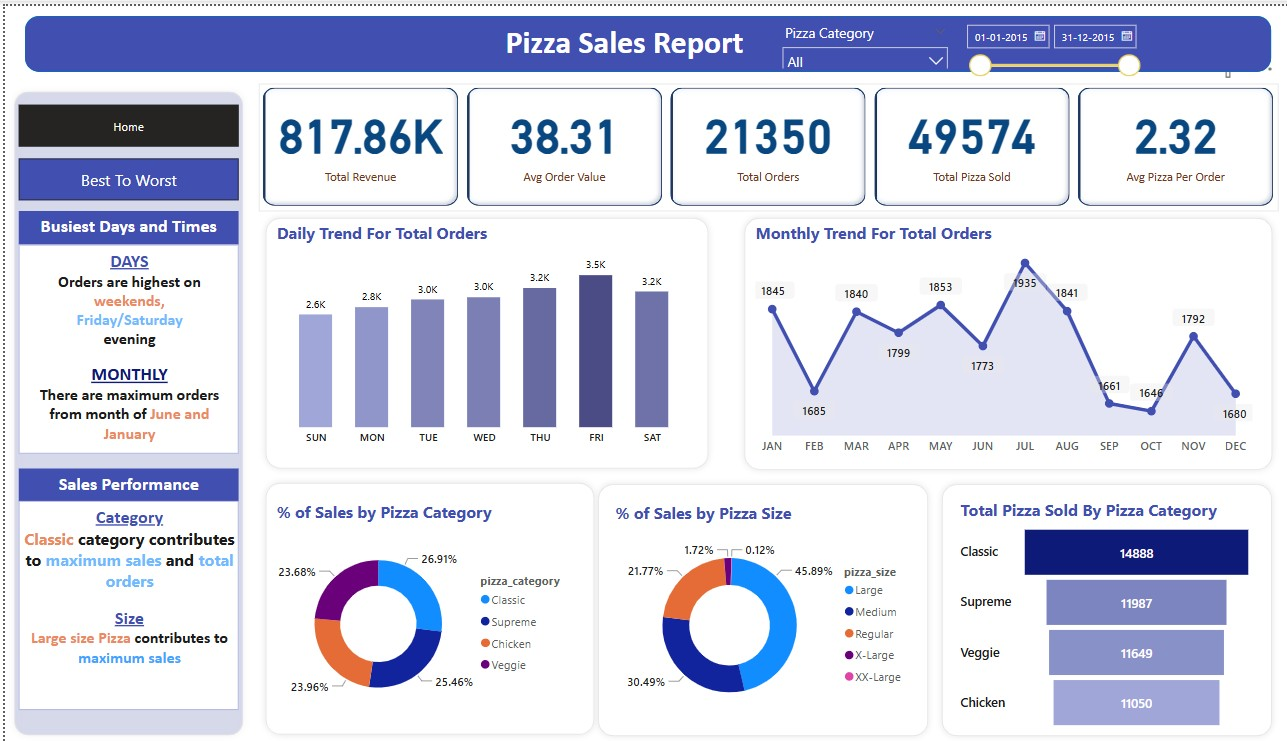

The dashboard page shown, as its layout file describes it:
{"tool":"powerbi","page":{"name":"Home","canvas":[1500,860],"ordinal":0},"visuals":[{"type":"shape","box":[2.9,92,283.3,768],"z":0},{"type":"cardVisual","fields":{"Data":["public final_table.Total Revenue","public final_table.Avg Order Value","public final_table.Total Orders","public final_table.Total Pizza Sold","public final_table.Avg Pizza Per Order"]},"box":[296.8,91.2,1191.5,148.4],"z":1000},{"type":"shape","box":[23.1,12.3,1455.6,65.4],"z":2000},{"type":"textbox","box":[575,15.3,296.5,58.5],"z":3000},{"type":"shape","box":[296.8,239.7,533.8,309.1],"z":4000},{"type":"columnChart","title":"Daily Trend For Total Orders","fields":{"Category":["public final_table.order_day"],"Y":["public final_table.Total Orders"]},"box":[313.2,253.3,495.6,269.6],"z":5000},{"type":"shape","box":[855.1,239.7,633.2,310.5],"z":6000},{"type":"textbox","box":[16.1,239.5,257,39.4],"z":7000},{"type":"areaChart","title":"Monthly Trend For Total Orders","fields":{"Category":["public final_table.order_month"],"Y":["public final_table.Total Orders"]},"box":[871.5,253.3,591,280.5],"z":8000},{"type":"shape","box":[296.8,548.8,400.3,310.5],"z":9000},{"type":"shape","box":[684.9,550.1,401.7,310.5],"z":10000},{"type":"shape","box":[1086.6,550.1,401.7,310.5],"z":11000},{"type":"donutChart","title":"% of Sales by Pizza Category","fields":{"Category":["public final_table.pizza_category"],"Y":["public final_table.Total Revenue"]},"box":[313.2,578.7,356.8,262.8],"z":12000},{"type":"donutChart","title":"% of Sales by Pizza Size","fields":{"Y":["public final_table.Total Revenue"],"Category":["public final_table.pizza_size"]},"box":[708.1,580.1,356.8,262.8],"z":13000},{"type":"funnel","title":"Total Pizza Sold By Pizza Category","fields":{"Category":["public final_table.pizza_category"],"Y":["public final_table.Total Pizza Sold"]},"box":[1111.1,574.6,351.3,275.1],"z":14000},{"type":"textbox","box":[16.1,278.9,257,243.8],"z":15000},{"type":"textbox","box":[16.1,540.2,257,39.4],"z":16000},{"type":"textbox","box":[16.1,578.2,257,243.8],"z":17000},{"type":"slicer","fields":{"Values":["public final_table.pizza_category"]},"box":[898,14.6,213.2,58.4],"z":18000},{"type":"slicer","fields":{"Values":["public final_table.order_date"]},"box":[1111.1,11.7,223.4,80.3],"z":19000},{"type":"pageNavigator","box":[16.1,115.7,257.1,49.8],"z":19001},{"type":"pageNavigator","box":[16.1,178.3,257.1,49.8],"z":19003}]}

Visuals, with their boxes in screenshot pixels (x1, y1, x2, y2), scaled from the page's 1500x860 canvas onto the 1287x741 screenshot:
shape: 2,79,246,740
cardVisual - public final_table.Total Revenue x public final_table.Avg Order Value: 255,79,1277,206
shape: 20,11,1269,67
textbox: 493,13,748,64
shape: 255,207,713,473
"Daily Trend For Total Orders" columnChart: 269,218,694,451
shape: 734,207,1277,474
textbox: 14,206,234,240
"Monthly Trend For Total Orders" areaChart: 748,218,1255,460
shape: 255,473,598,740
shape: 588,474,932,740
shape: 932,474,1277,740
"% of Sales by Pizza Category" donutChart: 269,499,575,725
"% of Sales by Pizza Size" donutChart: 608,500,914,726
"Total Pizza Sold By Pizza Category" funnel: 953,495,1255,732
textbox: 14,240,234,450
textbox: 14,465,234,499
textbox: 14,498,234,708
slicer - public final_table.pizza_category: 770,13,953,63
slicer - public final_table.order_date: 953,10,1145,79
pageNavigator: 14,100,234,143
pageNavigator: 14,154,234,197
